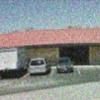cars: (28, 57, 51, 76), (56, 57, 74, 74)
